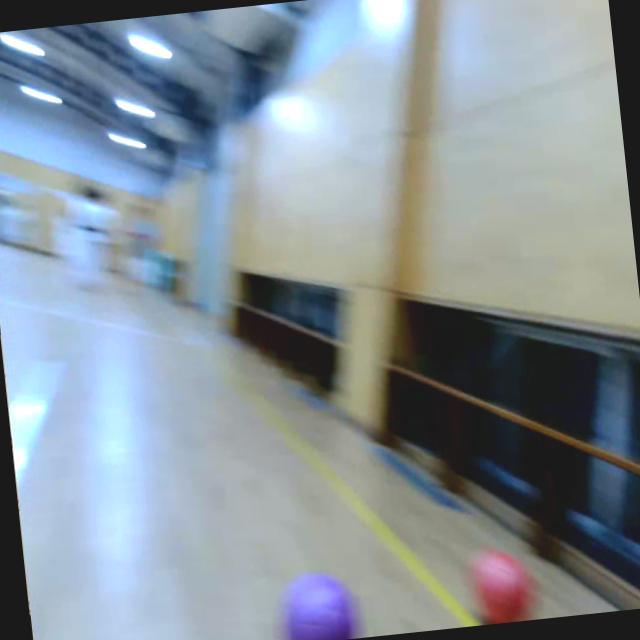purple_ball: (279, 571, 361, 640)
red_ball: (471, 548, 538, 624)
